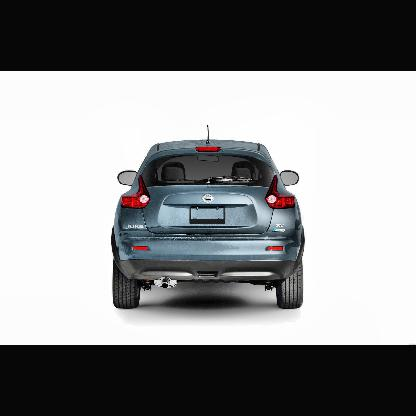Nissan Juke Hatchback 2012: (111, 126, 306, 310)
